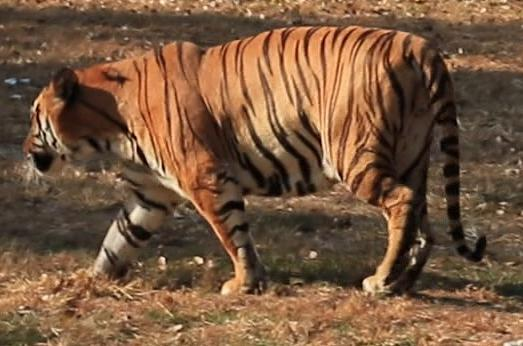tiger: (23, 26, 485, 293)
